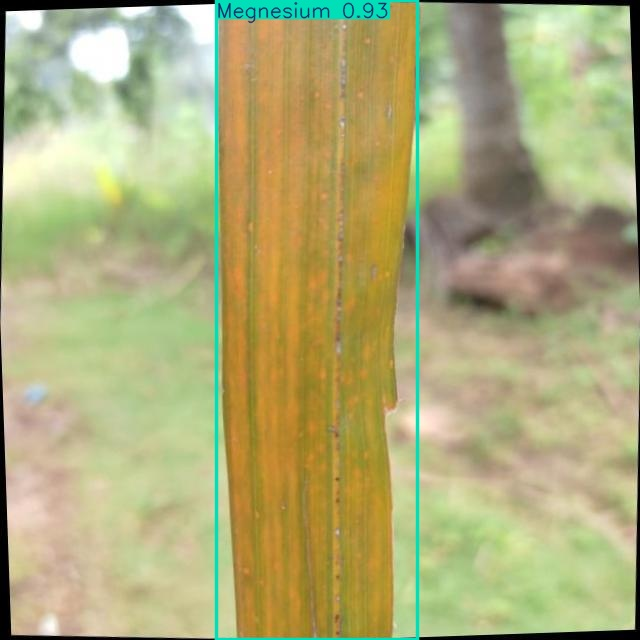Megnesium: (217, 0, 418, 639)
